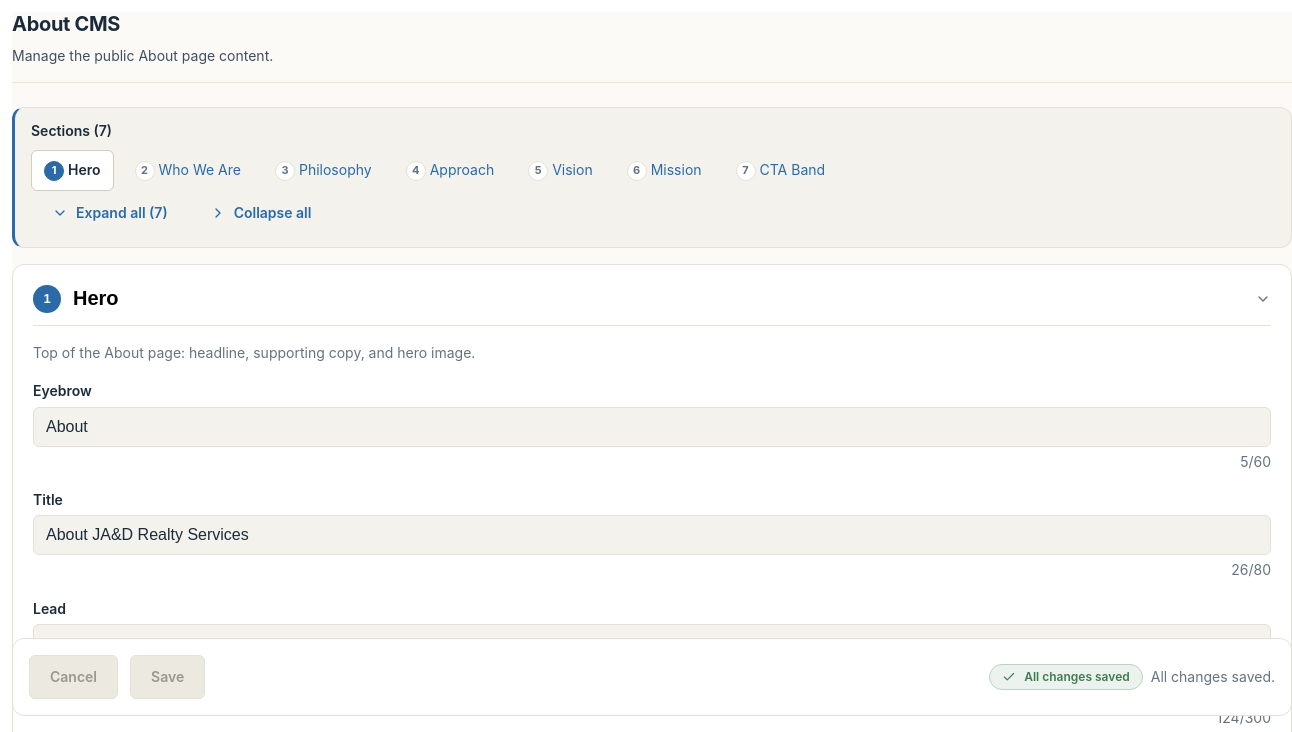
Test case: CmsAboutPage — Phase 2 About CMS › validation: empty required title shows error and disables Save
Expected: the heading "Hero" is shown, [73,287,119,310]
Step 1. Clear the field showing "About JA&D Realty Services" → (652, 535), box [33,515,1271,555]
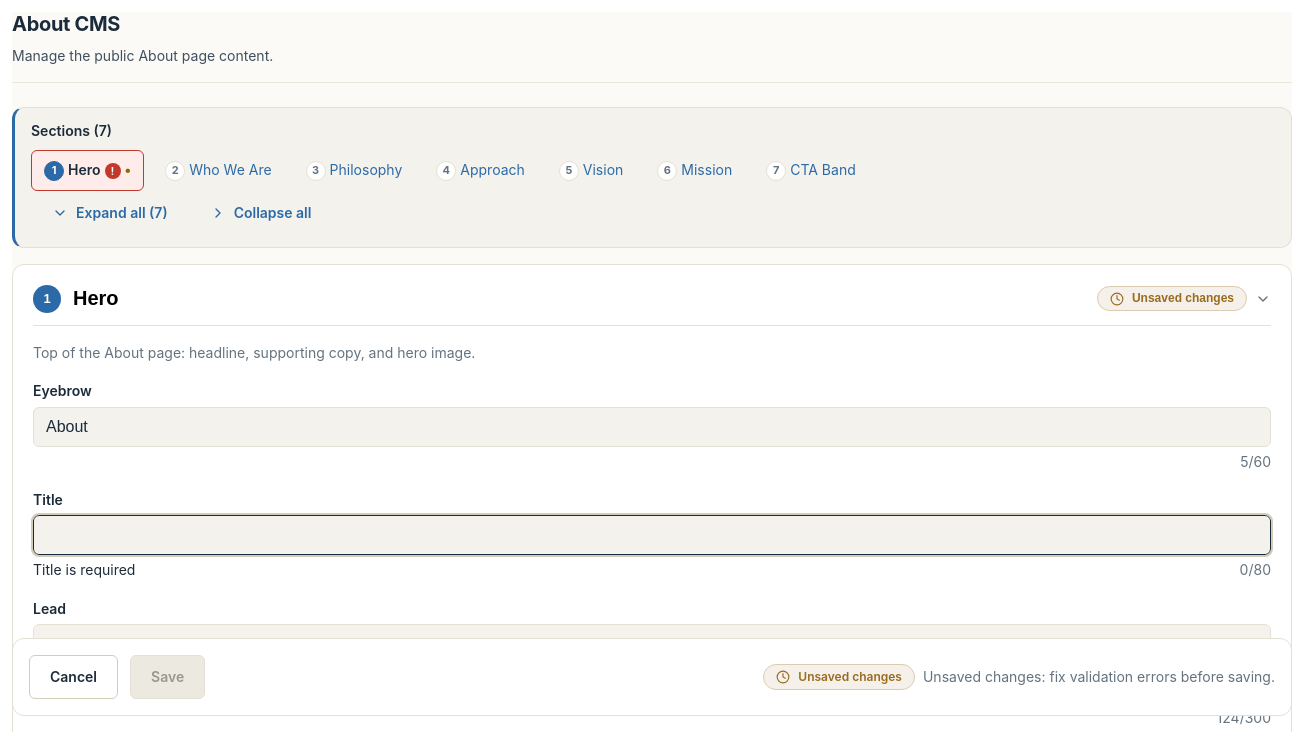
Expected: the button "Save" is disabled, [130,655,205,699]
Expected: the text "Title is required" is shown, [33,559,135,582]
